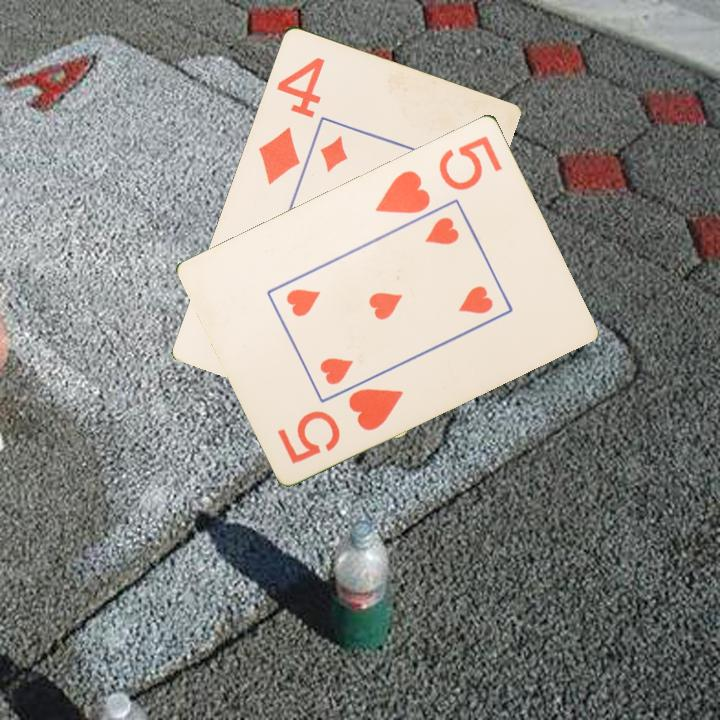4d: (254, 53, 328, 187)
5h: (371, 131, 506, 217), (274, 384, 407, 466)
